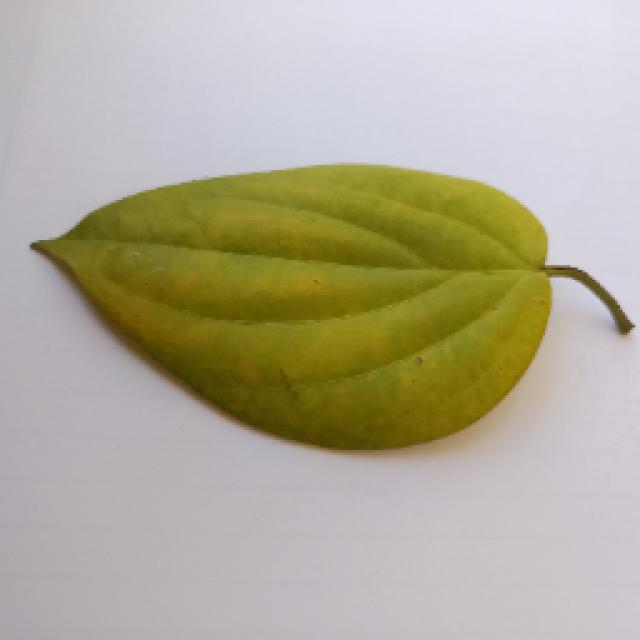slow-decline: (30, 152, 632, 448)
